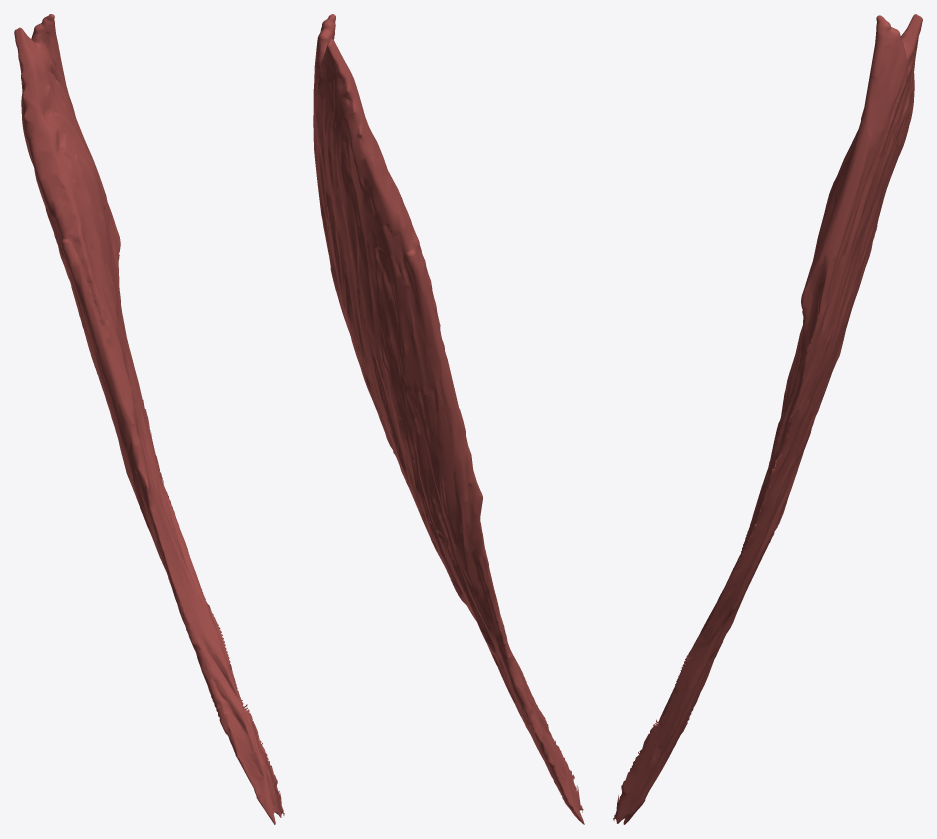
The model's file is FMA38619.glb.
The picture shows the model from 3 angles, left to right: view 1: azimuth 90°, elevation 25°; view 2: azimuth 150°, elevation 25°; view 3: azimuth 270°, elevation 25°; orthographic projection. The views are drawn at different scales.
Parts seen in each view (by area): view 1: FMA38619; view 2: FMA38619; view 3: FMA38619.
Boxes of the visible parts, <box> form: FMA38619: <box>14,14,284,824</box>; FMA38619: <box>313,14,584,824</box>; FMA38619: <box>613,14,922,824</box>.
Bounding box in the file's own units: 0.0402 × 0.213 × 0.0688.
